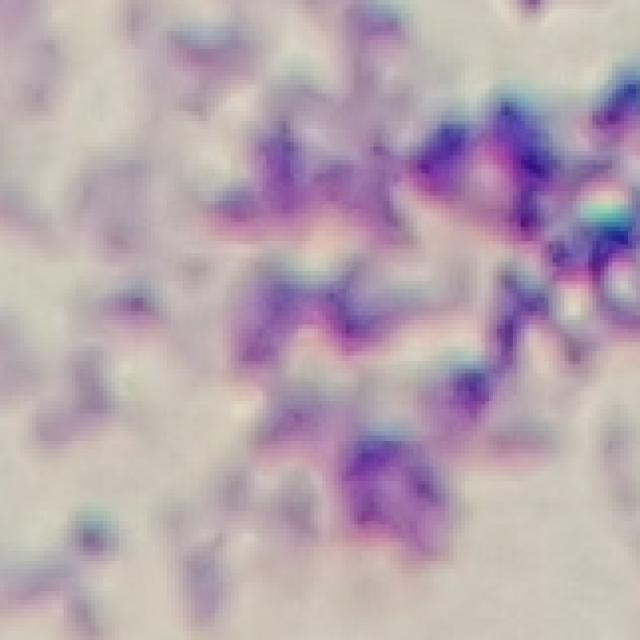non-sperm: (224, 72, 638, 553)
